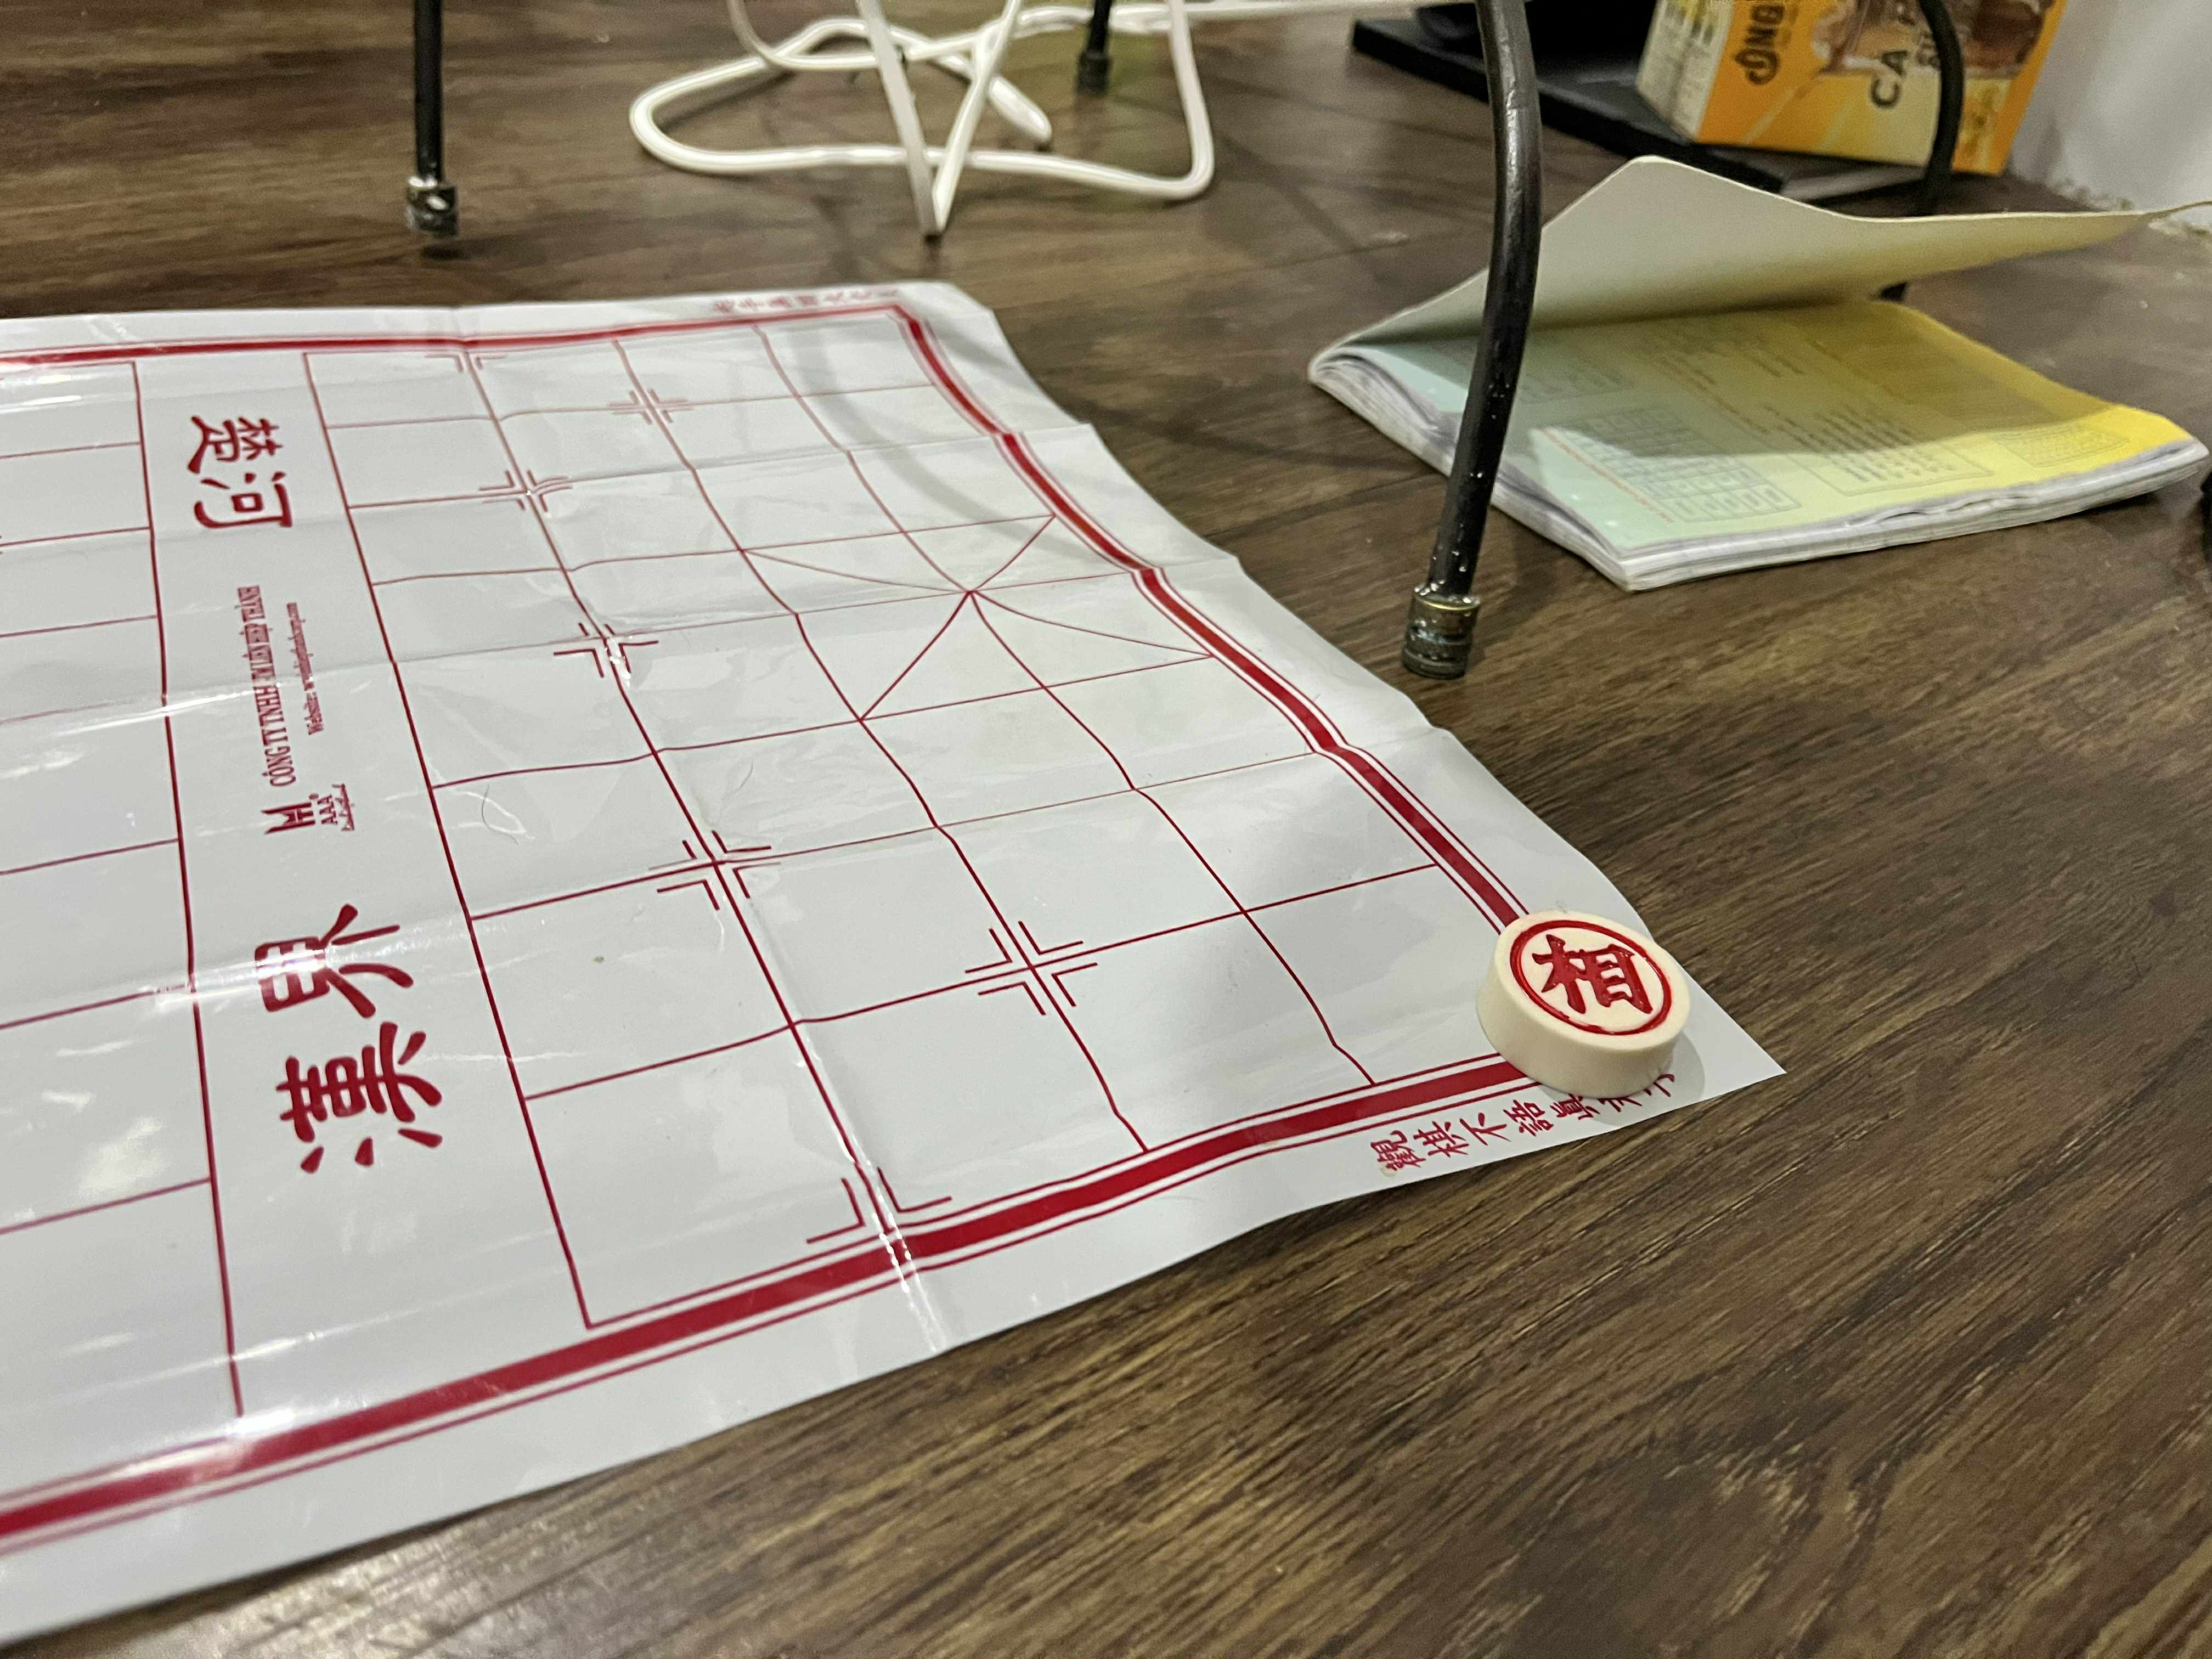red-elephant: (1491, 910, 1691, 1053)
